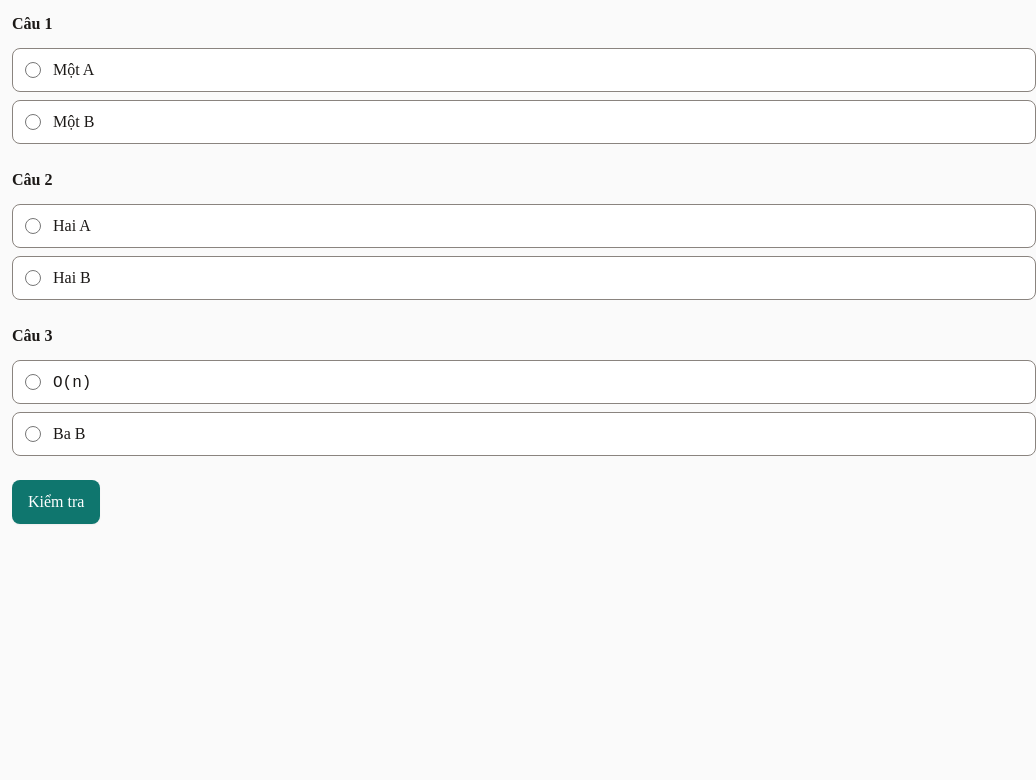
Quiz › scores 2 of 3, announces "Đúng 2/3" politely and reports the rounded percent
The width and height of the screenshot is (1036, 780).
Click the radio button labelled "Một A". click: (33,70)
box: 25,62 -> 41,78
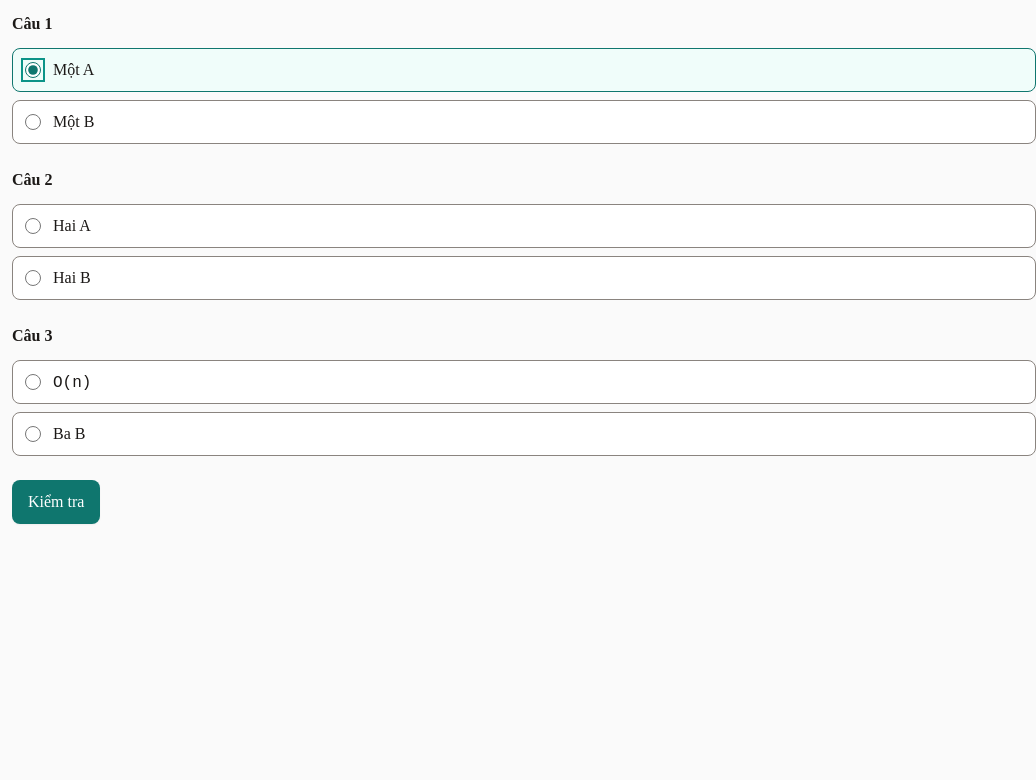
Click the radio button labelled "Hai B". click: (33,278)
box: 25,270 -> 41,286
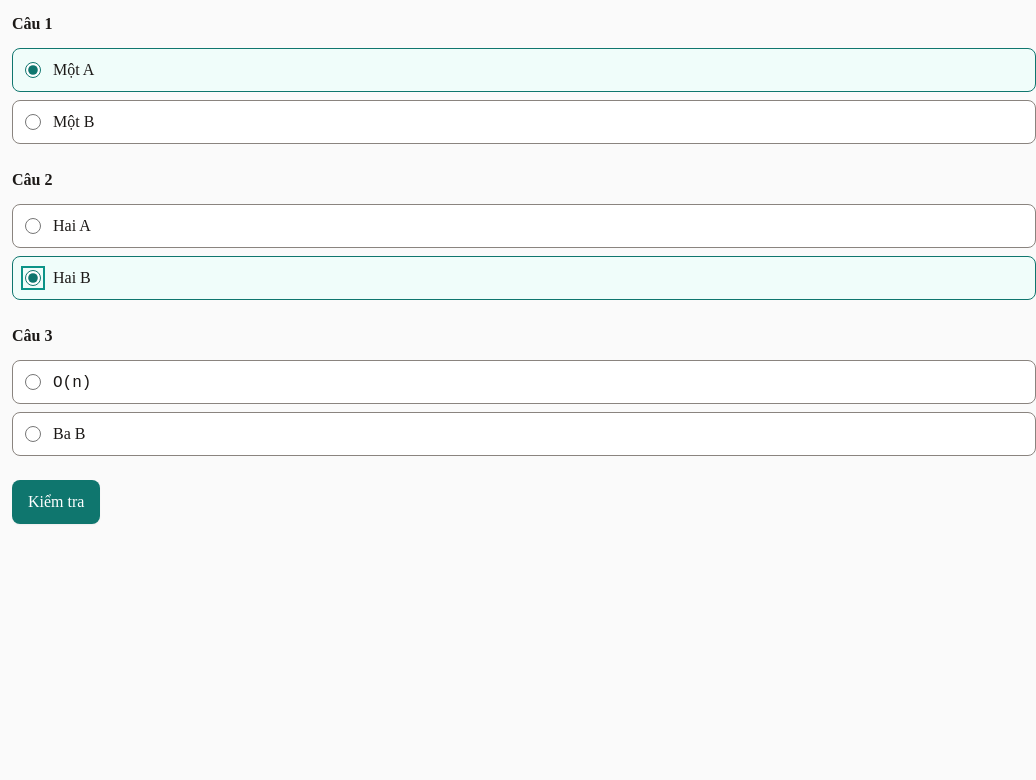
Click the radio button labelled "Ba B". click: (33,434)
box: 25,426 -> 41,442
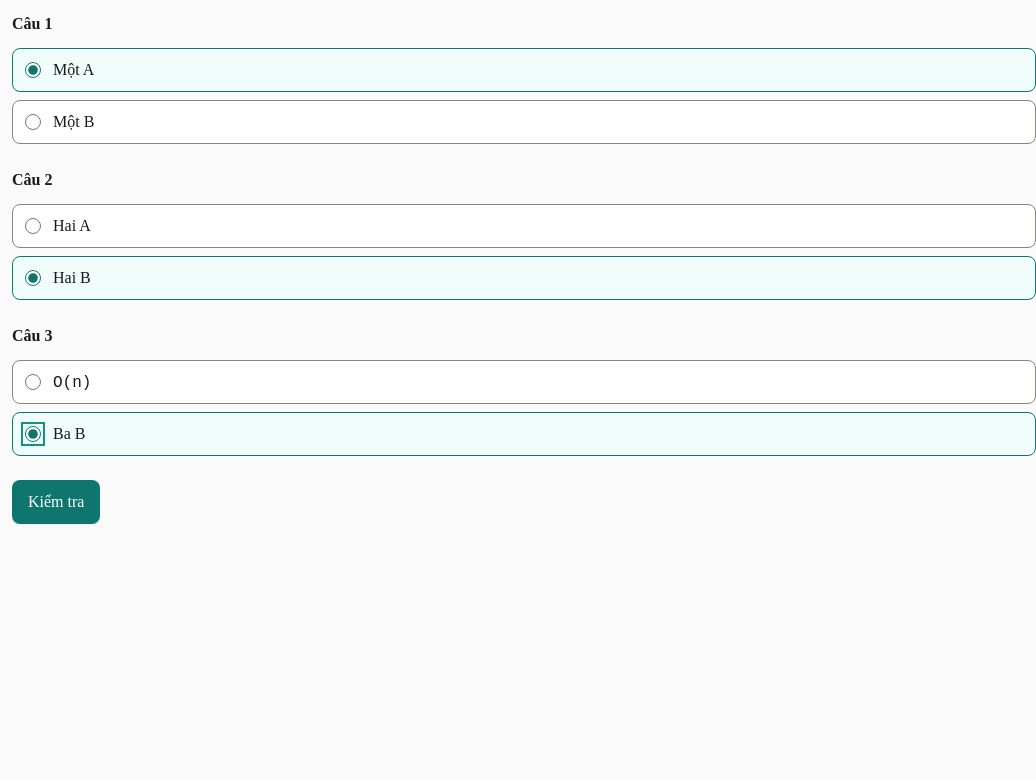
Click the button "Kiểm tra". click: (56,502)
box: 12,480 -> 100,524
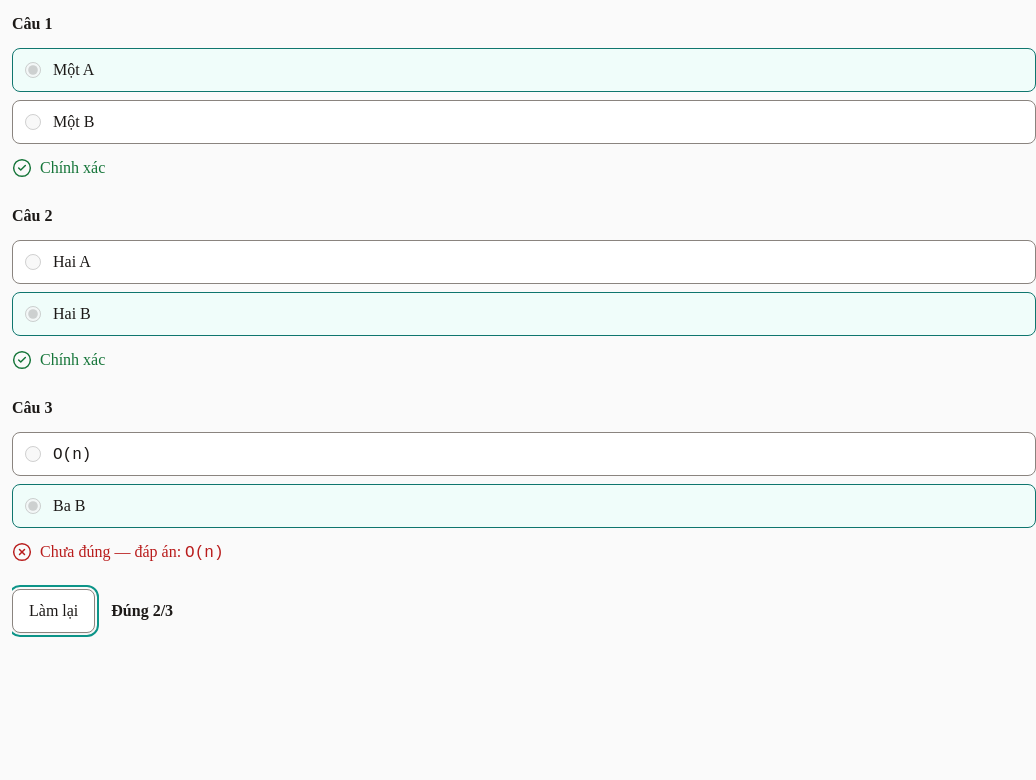
Now the message reads "Đúng 2/3", box 111,602 -> 173,619
